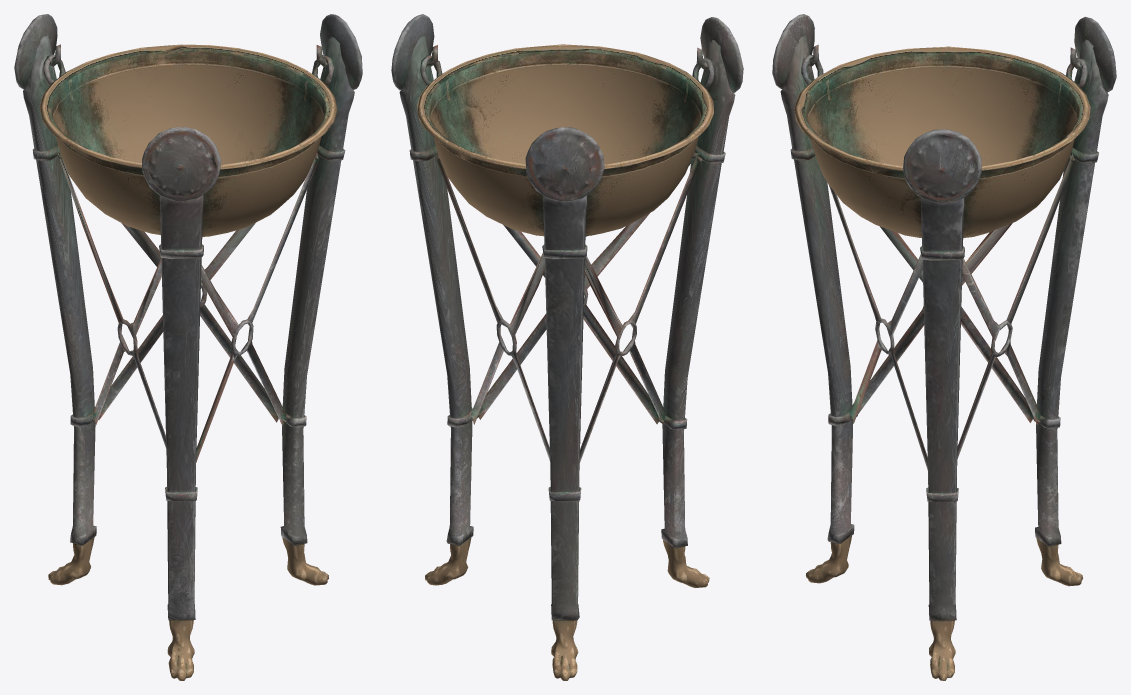
Rendered from bronze_brazier.draco.glb.
3 renders of one model, left to right at view 1: azimuth 30°, elevation 25°; view 2: azimuth 150°, elevation 25°; view 3: azimuth 270°, elevation 25°, orthographic.
Visible parts, largest first — view 1: Roman_Brazier_LOW; view 2: Roman_Brazier_LOW; view 3: Roman_Brazier_LOW.
Boxes of the visible parts, x1,y1,x2,y2 form: Roman_Brazier_LOW: [14, 14, 362, 680]; Roman_Brazier_LOW: [391, 14, 743, 680]; Roman_Brazier_LOW: [772, 14, 1116, 680].
Size of the model in its own units: 1.2 by 2.21 by 1.23.
Materials: 1 (1 with a texture image).
